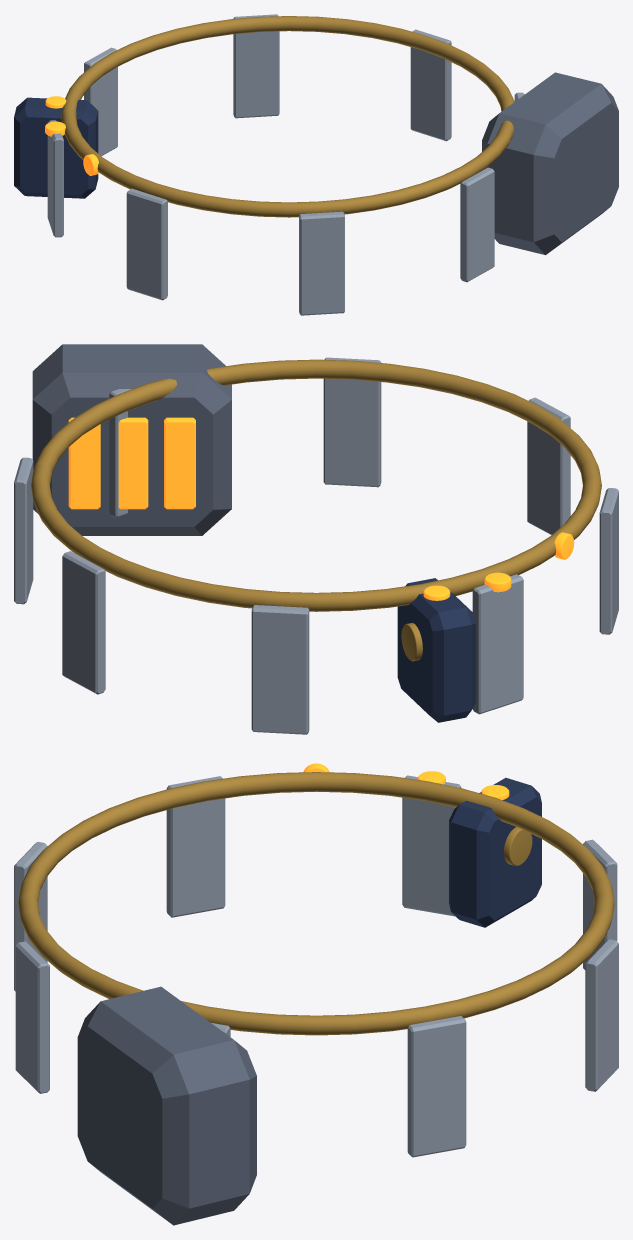
Rendered from tower_overclock_efficiency_s5.glb.
The picture shows the model from 3 angles, top to bottom: view 1: azimuth 30°, elevation 25°; view 2: azimuth 150°, elevation 25°; view 3: azimuth 270°, elevation 25°; orthographic projection. The views are drawn at different scales.
Visible parts, largest first — view 1: overclock_battery, overclock_coolant_loop, overclock_regulator, overclock_base_fin6, overclock_base_fin7, overclock_base_fin2, overclock_base_fin3, overclock_base_fin5, overclock_base_fin1, overclock_base_fin0; view 2: overclock_battery, overclock_coolant_loop, overclock_regulator, overclock_base_fin1, overclock_base_fin5, overclock_base_fin0, overclock_base_fin2, overclock_base_fin6, overclock_battery_cell0.1, overclock_battery_cell0, overclock_base_fin7, overclock_base_fin3 (+3 smaller); view 3: overclock_battery, overclock_coolant_loop, overclock_regulator, overclock_base_fin3, overclock_base_fin7, overclock_base_fin0, overclock_base_fin5, overclock_base_fin2, overclock_base_fin6, overclock_base_fin1, overclock_regulator_dial.
Part boxes in pixels (left/top/right/bottom): overclock_battery: left=482, top=72, right=618, bottom=255; overclock_coolant_loop: left=61, top=16, right=514, bottom=217; overclock_regulator: left=14, top=97, right=98, bottom=198; overclock_base_fin6: left=299, top=211, right=344, bottom=315; overclock_base_fin7: left=126, top=188, right=167, bottom=300; overclock_base_fin2: left=233, top=14, right=279, bottom=118; overclock_base_fin3: left=410, top=29, right=451, bottom=141; overclock_base_fin5: left=460, top=167, right=494, bottom=282; overclock_base_fin1: left=84, top=47, right=117, bottom=155; overclock_base_fin0: left=47, top=120, right=63, bottom=237; overclock_battery: left=32, top=344, right=231, bottom=535; overclock_coolant_loop: left=31, top=359, right=601, bottom=611; overclock_regulator: left=397, top=578, right=475, bottom=722; overclock_base_fin1: left=251, top=605, right=309, bottom=734; overclock_base_fin5: left=323, top=357, right=381, bottom=487; overclock_base_fin0: left=472, top=574, right=523, bottom=714; overclock_base_fin2: left=62, top=551, right=105, bottom=694; overclock_base_fin6: left=527, top=397, right=570, bottom=534; overclock_battery_cell0.1: left=164, top=417, right=195, bottom=509; overclock_battery_cell0: left=118, top=417, right=148, bottom=509; overclock_base_fin7: left=599, top=488, right=618, bottom=634; overclock_base_fin3: left=14, top=457, right=33, bottom=604; overclock_battery: left=77, top=986, right=256, bottom=1225; overclock_coolant_loop: left=18, top=772, right=614, bottom=1035; overclock_regulator: left=449, top=777, right=541, bottom=927; overclock_base_fin3: left=407, top=1016, right=466, bottom=1157; overclock_base_fin7: left=166, top=776, right=225, bottom=917; overclock_base_fin0: left=402, top=775, right=461, bottom=916; overclock_base_fin5: left=15, top=941, right=49, bottom=1093; overclock_base_fin2: left=585, top=939, right=618, bottom=1091; overclock_base_fin6: left=14, top=842, right=47, bottom=991; overclock_base_fin1: left=583, top=839, right=617, bottom=969; overclock_regulator_dial: left=504, top=827, right=532, bottom=865.
Bounding box in the file's own units: 1.45 × 0.3792 × 1.22.
